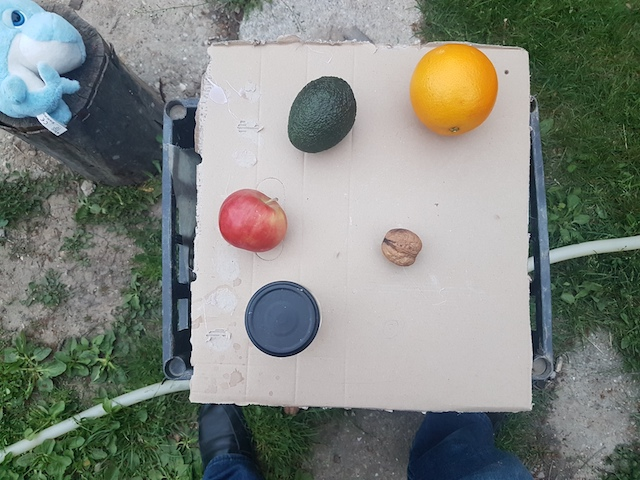apple: (217, 185, 294, 255)
avocado: (287, 74, 358, 152)
nut: (378, 225, 425, 267)
orange: (411, 43, 498, 137)
recipient: (244, 280, 322, 359)
